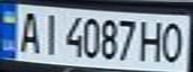0: (81, 15, 103, 60)
4: (60, 12, 84, 59)
7: (115, 16, 139, 62)
8: (100, 16, 121, 61)
A: (12, 8, 45, 55)
H: (136, 17, 166, 63)
I: (36, 10, 63, 56)
O: (160, 18, 187, 64)
